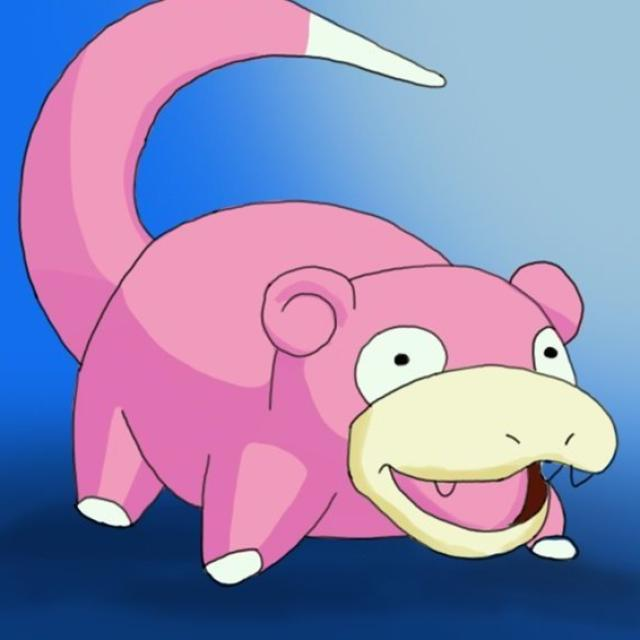Slowpoke: (36, 154, 612, 578)
